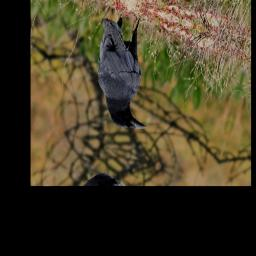Crow: (77, 4, 173, 136)
